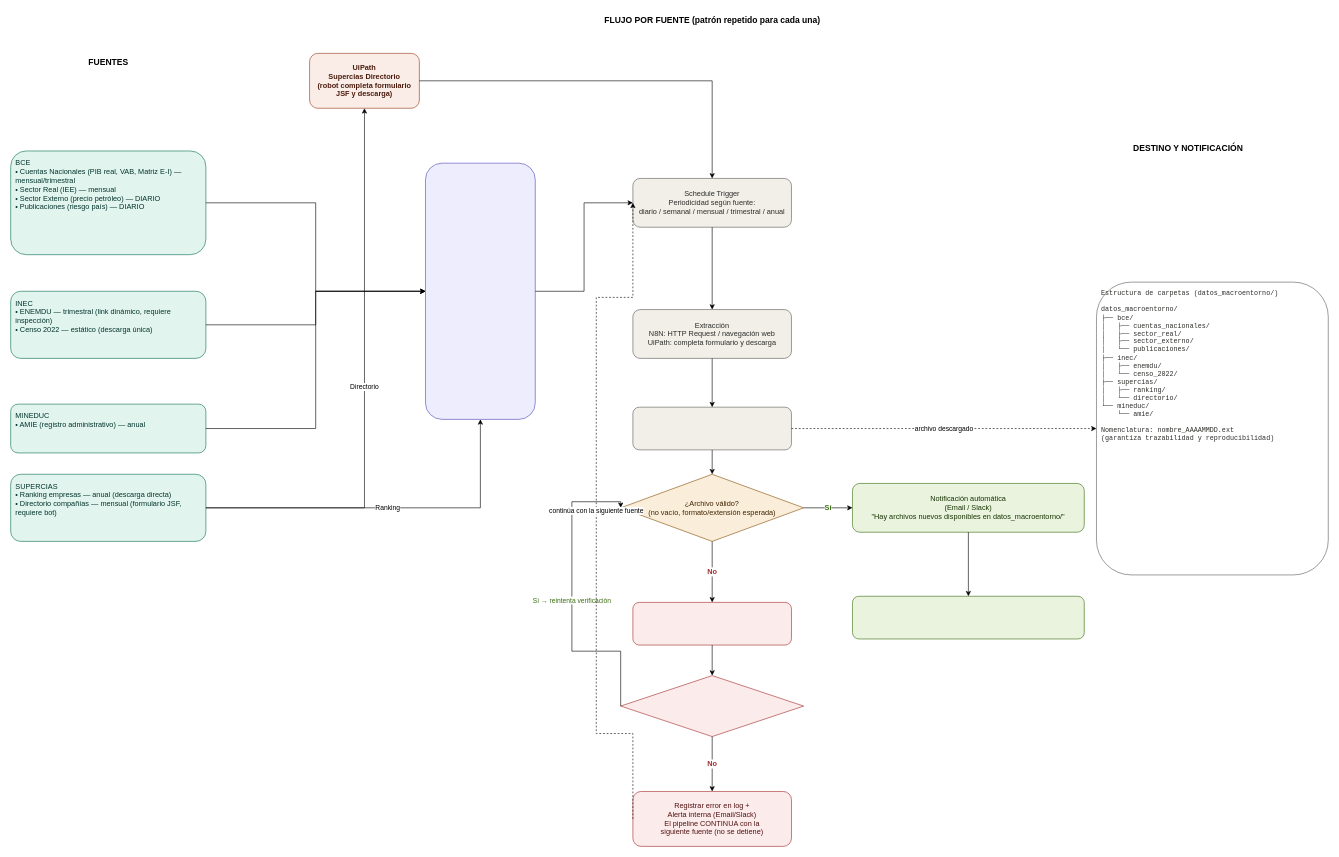
Image size: 1339x857. Some labels were removed from this diagram. Each missing label, with the centre of its shape:
"Equipo de Datos Recoge / procesa los archivos desde datos_macroentorno/" belongs at [968,617].
"Guardar archivo nombre_AAAAMMDD.ext Ej: pib_real_20260512.xlsx" belongs at [711,428].
"N8N 8 fuentes con descarga directa (HTTP Request / scraping simple)" belongs at [480,291].
"Reintento de descarga (máximo 3 intentos)" belongs at [711,623].
"¿Reintento exitoso?" belongs at [712,706].
